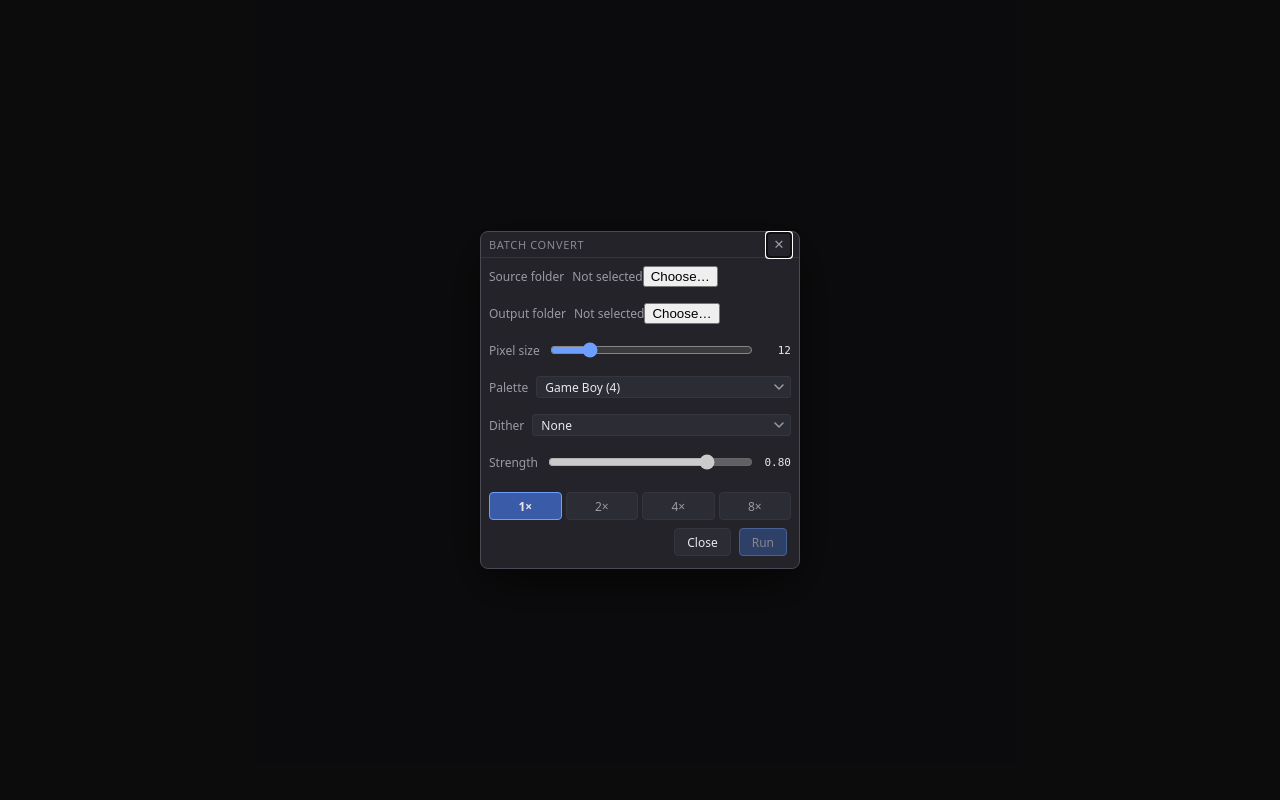
folder selection › shows an honest error instead of an unhandled rejection when the folder picker itself fails
Click the button "Choose…" in the row of "Source folder": {"x": 680, "y": 276} [643,266,718,287]
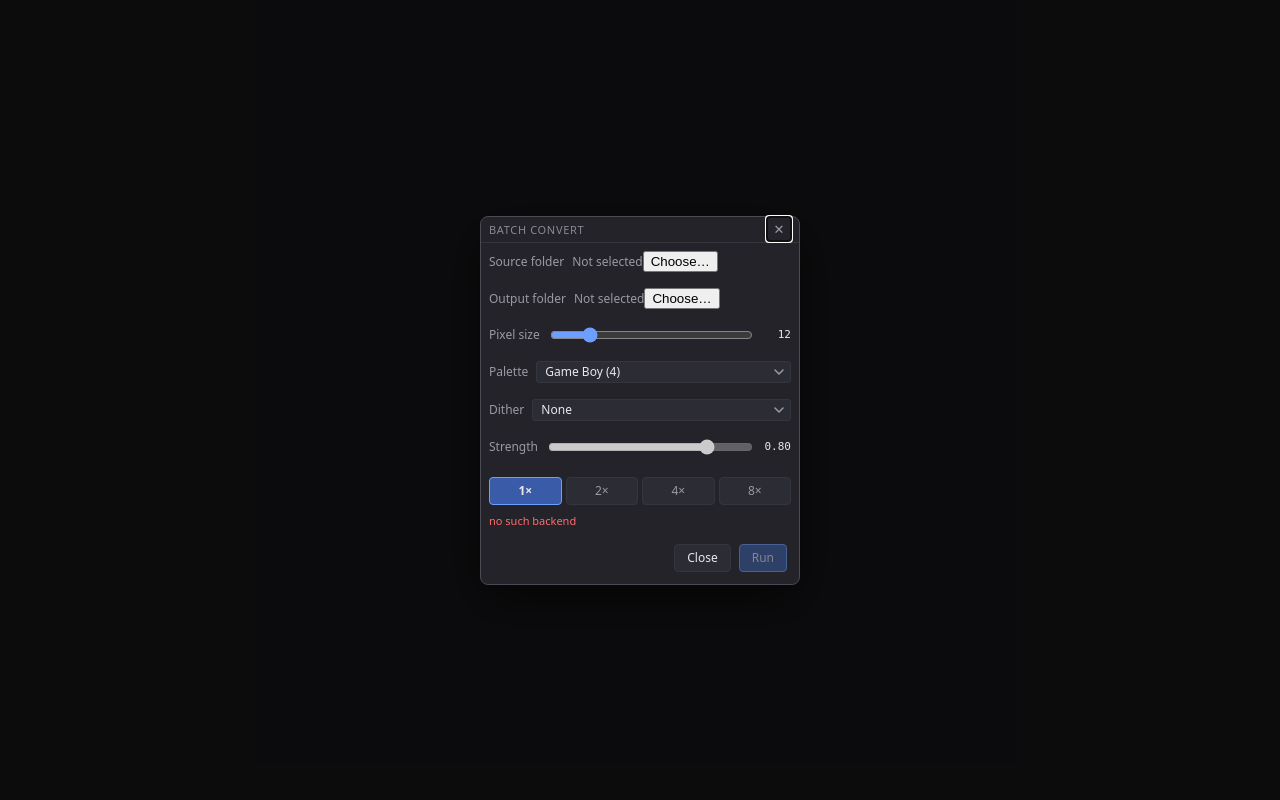
Now the text "no such backend" is shown, box [489,512,576,528]
